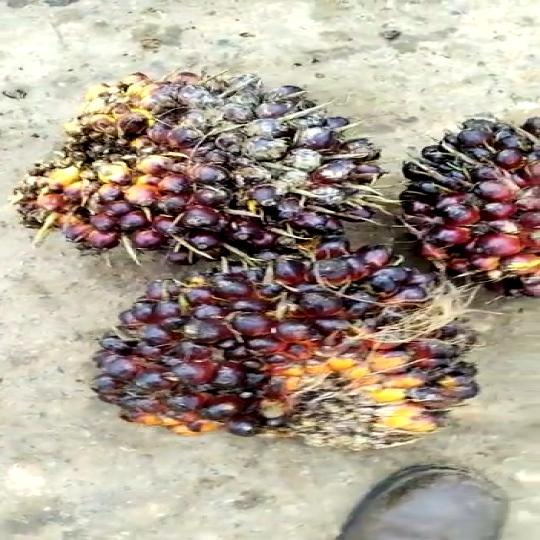kurang masak: (83, 230, 501, 458), (14, 66, 362, 256), (397, 105, 540, 311)
